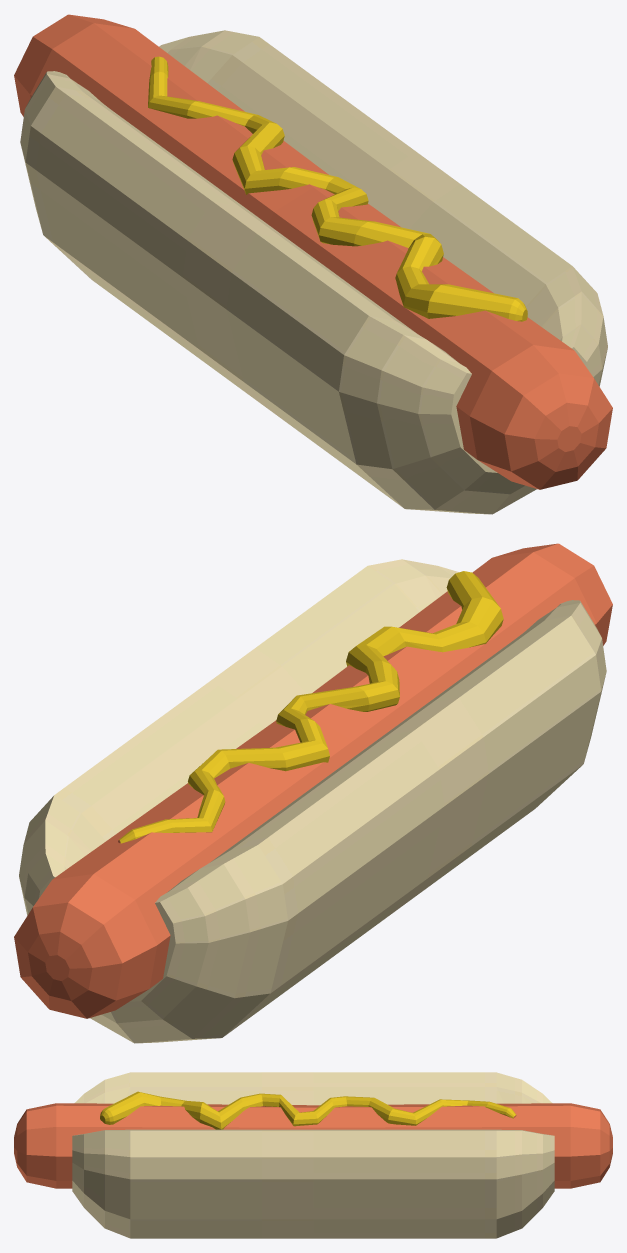
The model's file is quaternius-junk-food-hotdog.glb.
The picture shows the model from 3 angles, top to bottom: view 1: azimuth 30°, elevation 25°; view 2: azimuth 150°, elevation 25°; view 3: azimuth 270°, elevation 25°; orthographic projection. The views are drawn at different scales.
Visible parts, largest first — view 1: Hotdog; view 2: Hotdog; view 3: Hotdog.
Boxes of the visible parts, x1,y1,x2,y2 form: Hotdog: (14,14,612,514); Hotdog: (14,543,612,1043); Hotdog: (14,1072,612,1238).
Bounding box in the file's own units: 0.3972 × 0.3277 × 1.33.
Materials: 1 (1 with a texture image).
